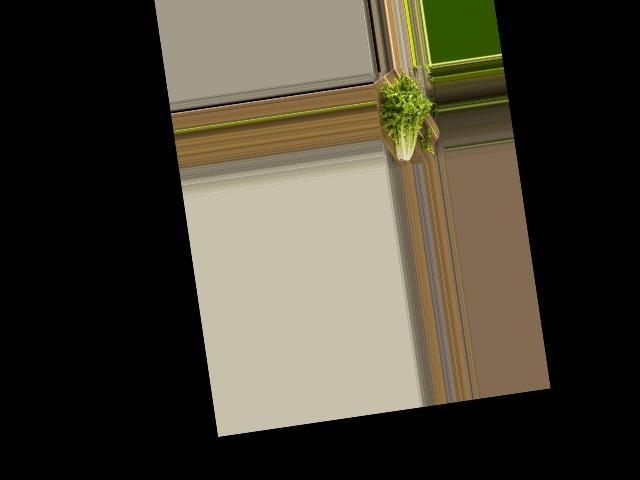lettuce: (375, 72, 439, 168)
